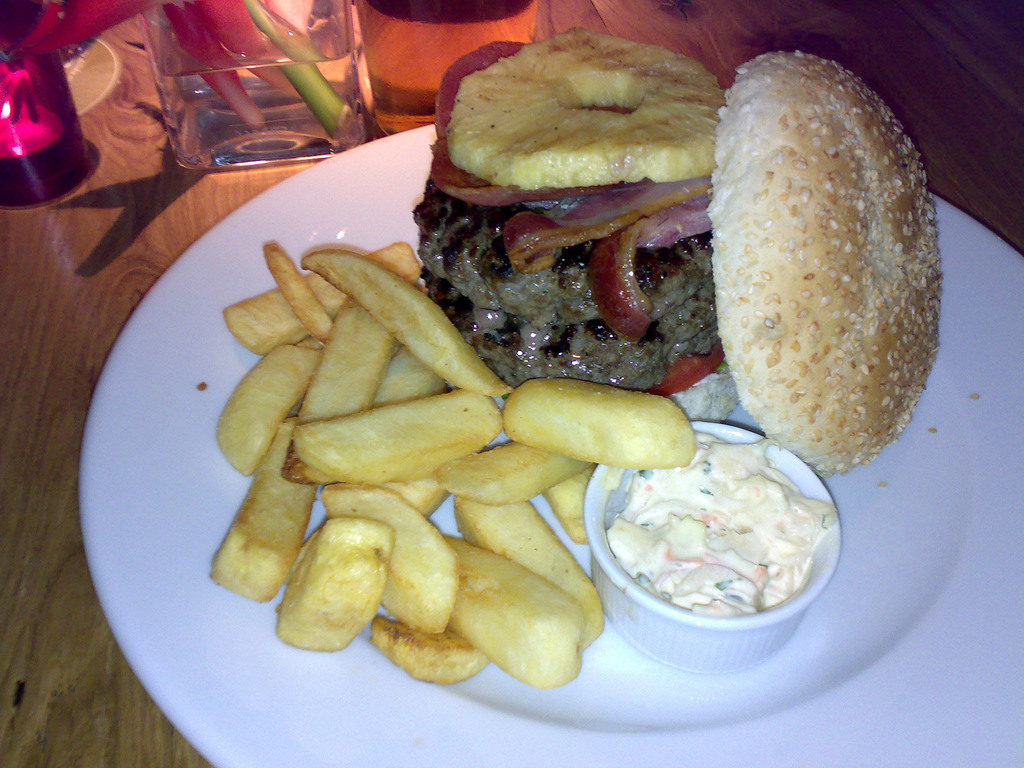French fries: (213, 207, 585, 677)
